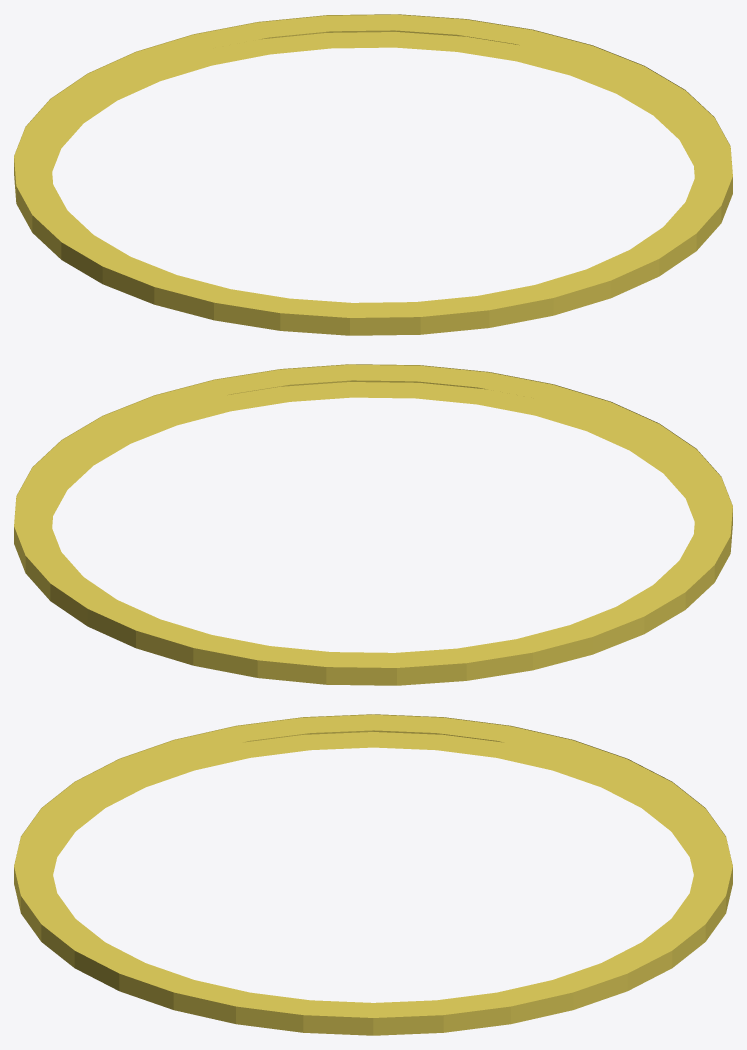
Rendered from yuanhuan.fbx.
3 renders of one model, top to bottom at view 1: azimuth 30°, elevation 25°; view 2: azimuth 150°, elevation 25°; view 3: azimuth 270°, elevation 25°, orthographic.
Parts seen in each view (by area): view 1: 柱体; view 2: 柱体; view 3: 柱体.
Boxes of the visible parts, bbox=[...] form: 柱体: bbox=[14, 14, 732, 335]; 柱体: bbox=[14, 364, 732, 685]; 柱体: bbox=[14, 714, 732, 1035].
Bounding box in the file's own units: 200 × 5.44 × 200.
